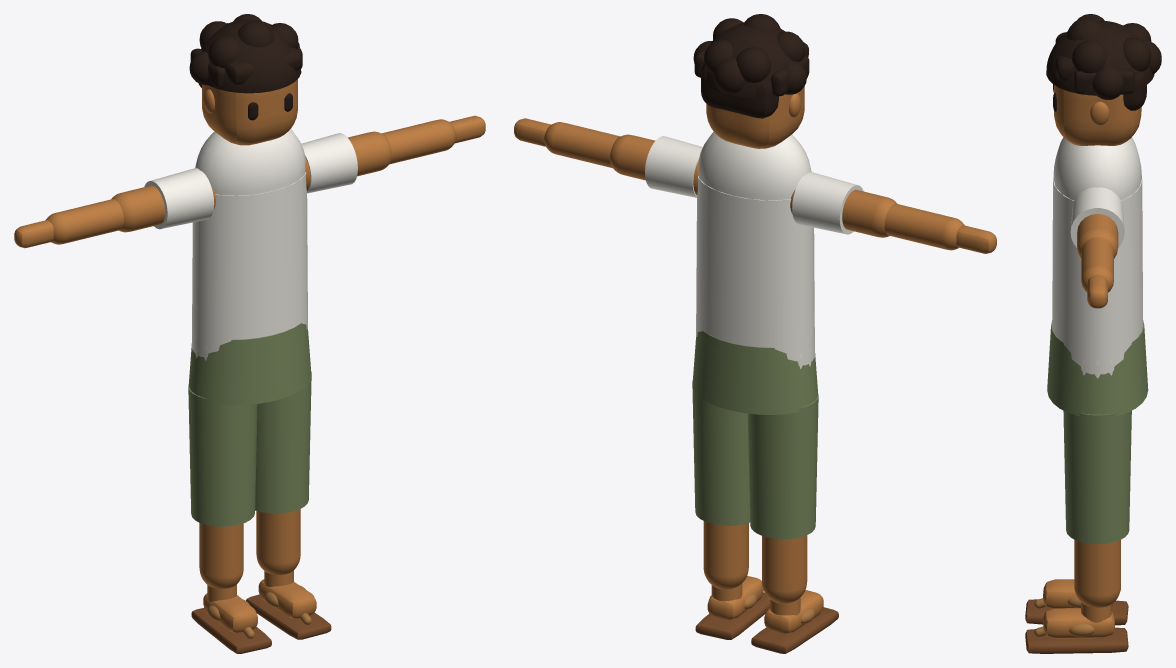
Rendered from yusuf.glb.
3 renders of one model, left to right at view 1: azimuth 30°, elevation 25°; view 2: azimuth 150°, elevation 25°; view 3: azimuth 270°, elevation 25°, orthographic. The views are drawn at different scales.
Parts seen in each view (by area): view 1: yusuf_shirt_body, yusuf_bottom_leg_l, yusuf_bottom_waist, yusuf_bottom_leg_r, yusuf_top_shoulders, yusuf_head, yusuf_hair_cap, yusuf_sleeve_l, yusuf_calf_l, yusuf_calf_r, yusuf_sleeve_r, yusuf_forearm_l (+12 smaller); view 2: yusuf_shirt_body, yusuf_bottom_leg_l, yusuf_bottom_waist, yusuf_bottom_leg_r, yusuf_top_shoulders, yusuf_head, yusuf_sleeve_l, yusuf_calf_l, yusuf_calf_r, yusuf_sleeve_r, yusuf_forearm_l, yusuf_forearm_r (+12 smaller); view 3: yusuf_shirt_body, yusuf_bottom_leg_r, yusuf_bottom_waist, yusuf_top_shoulders, yusuf_head, yusuf_calf_r, yusuf_hair_cap, yusuf_sole_r, yusuf_sleeve_r, yusuf_foot_r, yusuf_forearm_r, yusuf_upperarm_r (+15 smaller).
Part boxes in pixels (x1,y1,x2,y2): yusuf_shirt_body: (192, 172, 307, 357); yusuf_bottom_leg_l: (188, 386, 257, 526); yusuf_bottom_waist: (188, 323, 311, 405); yusuf_bottom_leg_r: (255, 372, 311, 513); yusuf_top_shoulders: (195, 129, 305, 195); yusuf_head: (202, 79, 297, 145); yusuf_hair_cap: (201, 19, 301, 93); yusuf_sleeve_l: (144, 168, 214, 229); yusuf_calf_l: (199, 523, 243, 588); yusuf_calf_r: (256, 509, 300, 574); yusuf_sleeve_r: (301, 133, 357, 193); yusuf_forearm_l: (46, 199, 123, 244); yusuf_shirt_body: (696, 176, 814, 365); yusuf_bottom_leg_l: (747, 395, 818, 539); yusuf_bottom_waist: (692, 330, 818, 414); yusuf_bottom_leg_r: (692, 381, 750, 525); yusuf_top_shoulders: (698, 132, 811, 200); yusuf_head: (706, 86, 804, 148); yusuf_sleeve_l: (792, 172, 863, 234); yusuf_calf_l: (762, 535, 807, 603); yusuf_calf_r: (703, 521, 748, 589); yusuf_sleeve_r: (645, 136, 702, 197); yusuf_forearm_l: (884, 203, 964, 250); yusuf_forearm_r: (544, 122, 620, 168); yusuf_shirt_body: (1052, 177, 1142, 374); yusuf_bottom_leg_r: (1063, 410, 1131, 544); yusuf_bottom_waist: (1047, 320, 1148, 416); yusuf_top_shoulders: (1053, 137, 1141, 200); yusuf_head: (1054, 85, 1141, 145); yusuf_calf_r: (1074, 540, 1120, 607); yusuf_hair_cap: (1046, 20, 1154, 95); yusuf_sole_r: (1025, 627, 1128, 653); yusuf_sleeve_r: (1070, 187, 1124, 247); yusuf_foot_r: (1043, 608, 1114, 638); yusuf_forearm_r: (1081, 237, 1113, 292); yusuf_upperarm_r: (1077, 214, 1118, 258).
Bounding box in the file's own units: 1.51 × 1.85 × 0.373.
